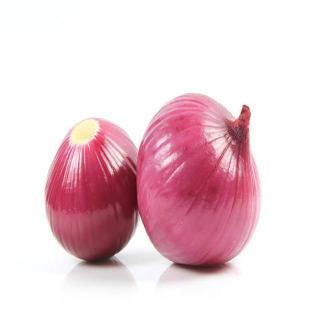Bawang Merah: (134, 92, 263, 270), (43, 115, 144, 263)
